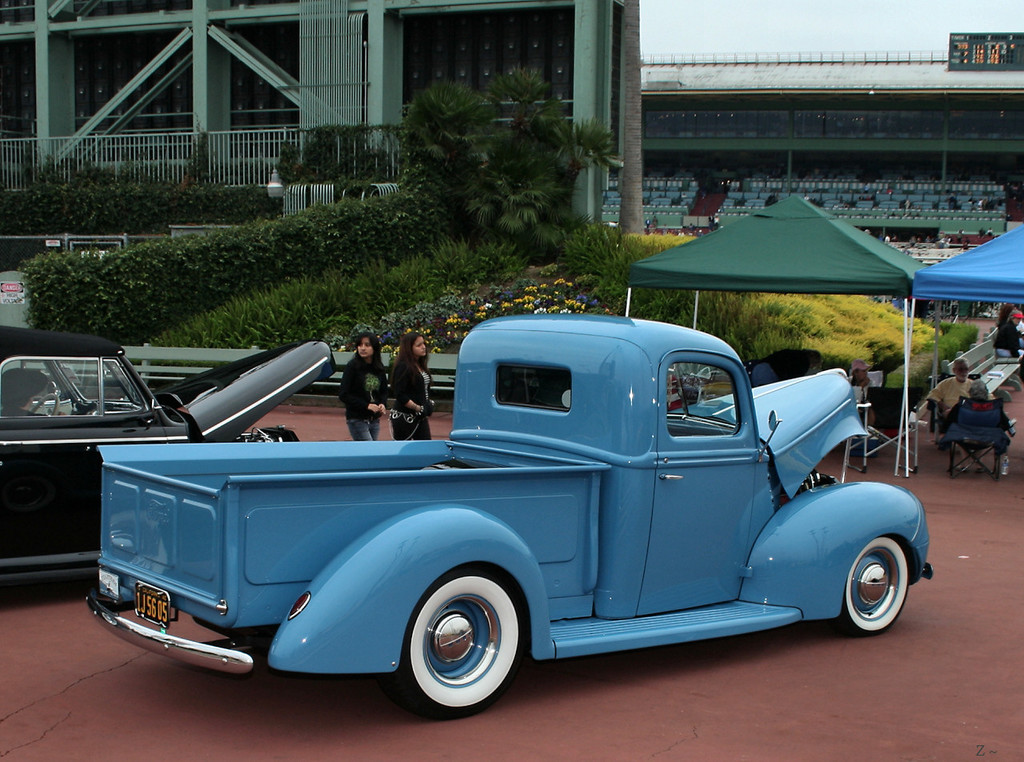cars: (52, 313, 974, 719), (0, 322, 336, 584)
